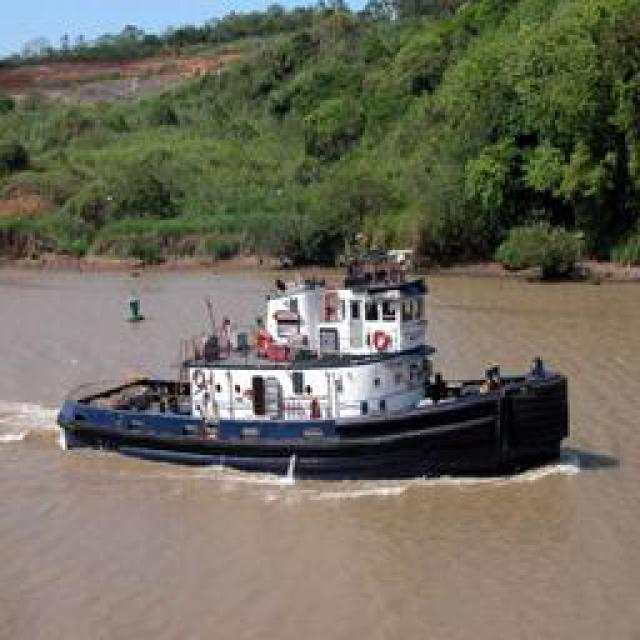Ship: (57, 280, 580, 475)
